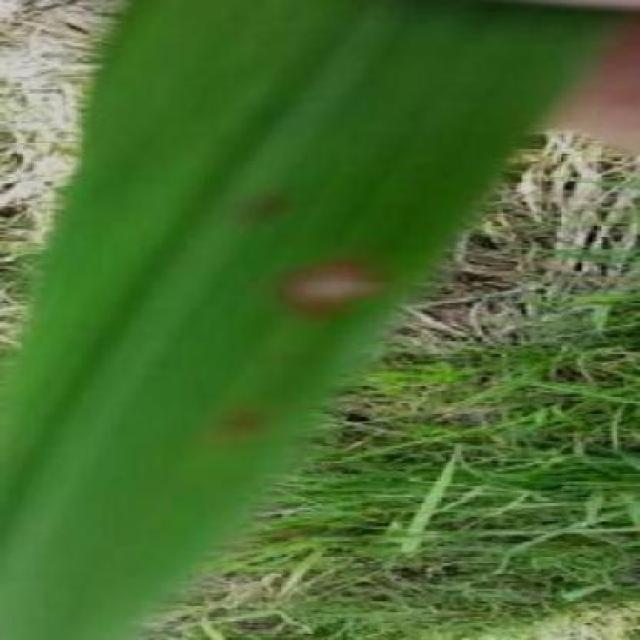Bacterial_Leaf_Blight: (258, 218, 413, 325)
